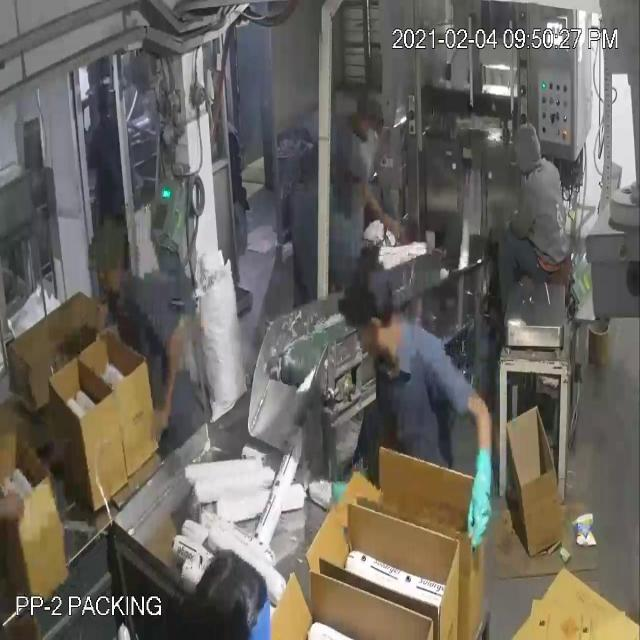No_Gloves: (16, 49, 482, 504)
